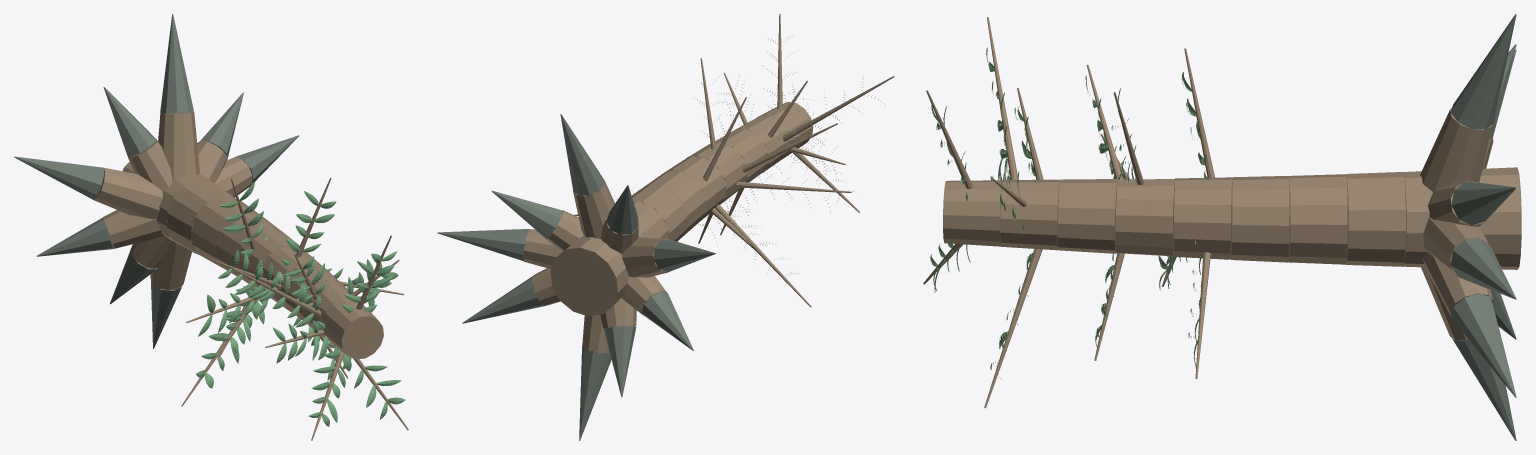
The model's file is Aquarion_Tidal_Mangrove.glb.
3 views of the same model, side by side, from view 1: azimuth 30°, elevation 25°; view 2: azimuth 150°, elevation 25°; view 3: azimuth 270°, elevation 25° (orthographic). The views are drawn at different scales.
Parts seen in each view (by area): view 1: Aquarion_Tidal_Mangrove_trunk9, Aquarion_Tidal_Mangrove_buttress4a, Aquarion_Tidal_Mangrove_buttress2a, Aquarion_Tidal_Mangrove_trunk2, Aquarion_Tidal_Mangrove_trunk3, Aquarion_Tidal_Mangrove_buttress2b, Aquarion_Tidal_Mangrove_buttress4b, Aquarion_Tidal_Mangrove_buttress5a, Aquarion_Tidal_Mangrove_buttress3b, Aquarion_Tidal_Mangrove_buttress5b, Aquarion_Tidal_Mangrove_trunk4, Aquarion_Tidal_Mangrove_buttress7a (+15 smaller); view 2: Aquarion_Tidal_Mangrove_trunk0, Aquarion_Tidal_Mangrove_buttress2b, Aquarion_Tidal_Mangrove_trunk4, Aquarion_Tidal_Mangrove_buttress7b, Aquarion_Tidal_Mangrove_buttress0b, Aquarion_Tidal_Mangrove_trunk3, Aquarion_Tidal_Mangrove_trunk5, Aquarion_Tidal_Mangrove_buttress2a, Aquarion_Tidal_Mangrove_buttress8b, Aquarion_Tidal_Mangrove_buttress1b, Aquarion_Tidal_Mangrove_trunk6, Aquarion_Tidal_Mangrove_buttress5b (+19 smaller); view 3: Aquarion_Tidal_Mangrove_trunk2, Aquarion_Tidal_Mangrove_trunk3, Aquarion_Tidal_Mangrove_trunk4, Aquarion_Tidal_Mangrove_trunk5, Aquarion_Tidal_Mangrove_trunk6, Aquarion_Tidal_Mangrove_trunk7, Aquarion_Tidal_Mangrove_trunk8, Aquarion_Tidal_Mangrove_trunk9, Aquarion_Tidal_Mangrove_buttress2a, Aquarion_Tidal_Mangrove_buttress2b, Aquarion_Tidal_Mangrove_trunk0, Aquarion_Tidal_Mangrove_buttress8b (+14 smaller).
Boxes of the visible parts, left/top/right/bottom form: Aquarion_Tidal_Mangrove_trunk9: left=322, top=298, right=383, bottom=359; Aquarion_Tidal_Mangrove_buttress4a: left=93, top=167, right=162, bottom=219; Aquarion_Tidal_Mangrove_buttress2a: left=158, top=111, right=199, bottom=181; Aquarion_Tidal_Mangrove_trunk2: left=166, top=180, right=235, bottom=253; Aquarion_Tidal_Mangrove_trunk3: left=191, top=195, right=258, bottom=267; Aquarion_Tidal_Mangrove_buttress2b: left=160, top=14, right=193, bottom=113; Aquarion_Tidal_Mangrove_buttress4b: left=14, top=156, right=104, bottom=199; Aquarion_Tidal_Mangrove_buttress5a: left=103, top=210, right=163, bottom=248; Aquarion_Tidal_Mangrove_buttress3b: left=103, top=87, right=156, bottom=157; Aquarion_Tidal_Mangrove_buttress5b: left=36, top=217, right=114, bottom=256; Aquarion_Tidal_Mangrove_trunk4: left=214, top=212, right=282, bottom=280; Aquarion_Tidal_Mangrove_buttress7a: left=150, top=241, right=191, bottom=290; Aquarion_Tidal_Mangrove_trunk0: left=550, top=236, right=628, bottom=316; Aquarion_Tidal_Mangrove_buttress2b: left=560, top=114, right=604, bottom=196; Aquarion_Tidal_Mangrove_trunk4: left=640, top=170, right=706, bottom=238; Aquarion_Tidal_Mangrove_buttress7b: left=579, top=346, right=611, bottom=440; Aquarion_Tidal_Mangrove_buttress0b: left=437, top=229, right=529, bottom=261; Aquarion_Tidal_Mangrove_trunk3: left=632, top=185, right=687, bottom=241; Aquarion_Tidal_Mangrove_trunk5: left=661, top=156, right=726, bottom=220; Aquarion_Tidal_Mangrove_buttress2a: left=573, top=179, right=614, bottom=238; Aquarion_Tidal_Mangrove_buttress8b: left=462, top=276, right=545, bottom=323; Aquarion_Tidal_Mangrove_buttress1b: left=491, top=190, right=562, bottom=238; Aquarion_Tidal_Mangrove_trunk6: left=686, top=142, right=747, bottom=204; Aquarion_Tidal_Mangrove_buttress5b: left=641, top=291, right=693, bottom=350; Aquarion_Tidal_Mangrove_trunk2: left=1346, top=172, right=1405, bottom=266; Aquarion_Tidal_Mangrove_trunk3: left=1288, top=174, right=1347, bottom=264; Aquarion_Tidal_Mangrove_trunk4: left=1231, top=176, right=1289, bottom=262; Aquarion_Tidal_Mangrove_trunk5: left=1173, top=177, right=1231, bottom=259; Aquarion_Tidal_Mangrove_trunk6: left=1115, top=179, right=1174, bottom=256; Aquarion_Tidal_Mangrove_trunk7: left=1058, top=179, right=1117, bottom=253; Aquarion_Tidal_Mangrove_trunk8: left=1000, top=179, right=1060, bottom=250; Aquarion_Tidal_Mangrove_trunk9: left=943, top=180, right=1003, bottom=246; Aquarion_Tidal_Mangrove_buttress2a: left=1420, top=108, right=1492, bottom=192; Aquarion_Tidal_Mangrove_buttress2b: left=1450, top=14, right=1516, bottom=130; Aquarion_Tidal_Mangrove_trunk0: left=1479, top=167, right=1521, bottom=269; Aquarion_Tidal_Mangrove_buttress8b: left=1451, top=293, right=1516, bottom=397.
Size of the model in its own units: 5.51 by 6.1 by 7.53.
